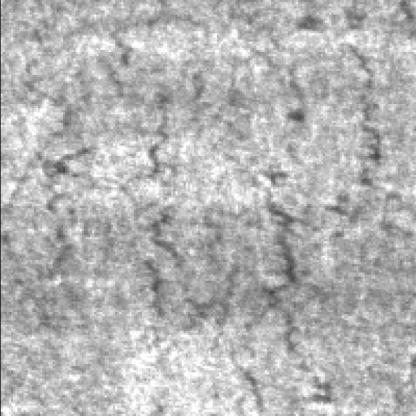crazing: (134, 60, 323, 416), (16, 27, 172, 339), (256, 37, 380, 330)
